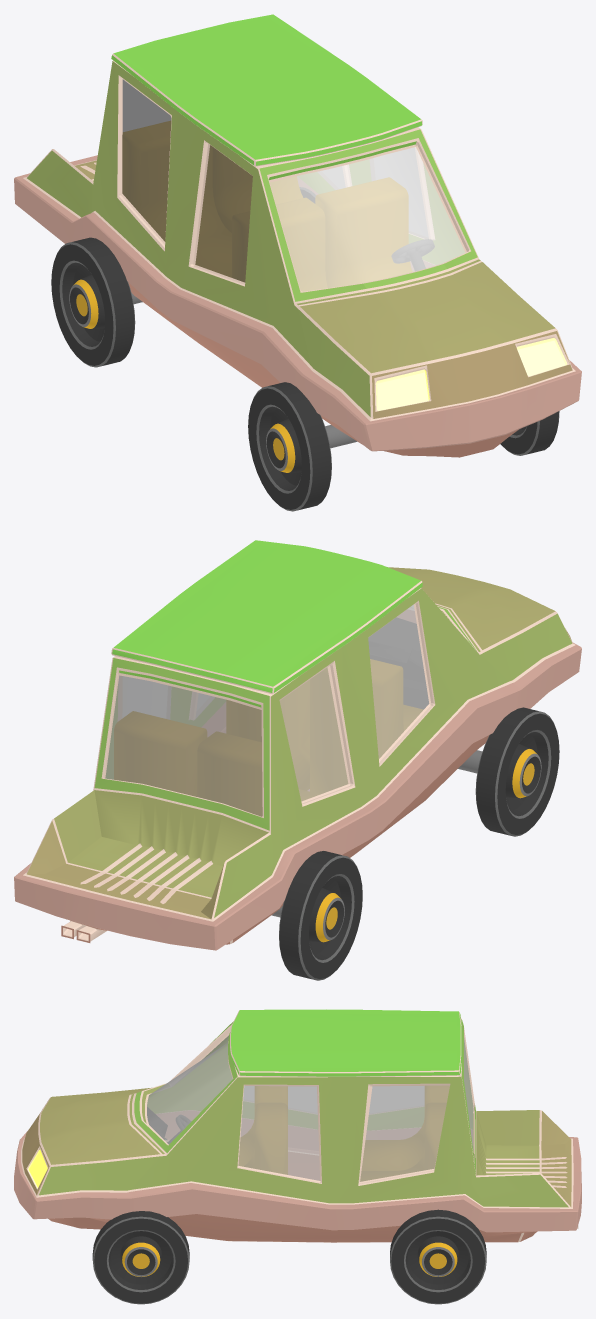
File: lowpolycar-jeep1.glb
3 renders of one model, top to bottom at view 1: azimuth 30°, elevation 25°; view 2: azimuth 150°, elevation 25°; view 3: azimuth 270°, elevation 25°, orthographic. The views are drawn at different scales.
Parts seen in each view (by area): view 1: Auto, Sitze, Räder.003; view 2: Auto, Sitze, Räder.003; view 3: Auto, Räder.003, Sitze.
Part boxes in pixels (x1,y1,x2,y2): Auto: [14, 14, 581, 457]; Sitze: [122, 121, 434, 291]; Räder.003: [51, 187, 559, 511]; Auto: [14, 540, 581, 950]; Sitze: [114, 617, 428, 816]; Räder.003: [271, 707, 559, 980]; Auto: [14, 1009, 581, 1242]; Räder.003: [92, 1138, 486, 1304]; Sitze: [147, 1086, 449, 1181].
Bounding box in the file's own units: 3.19 × 3.47 × 8.14.
5 materials, 3 textured.
